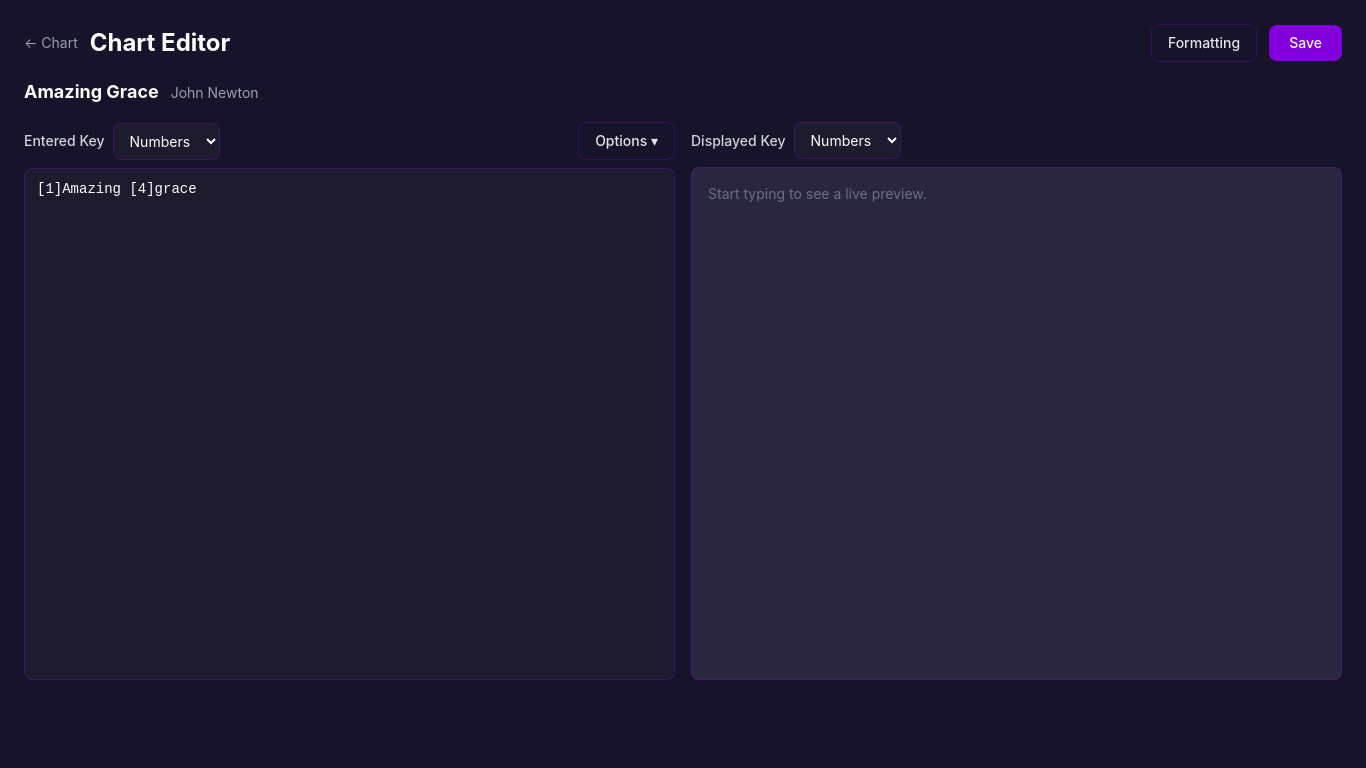
Test: ChartEditorPage (#9.3) › Options menu inserts modify the textarea body (R11.4, R11.5) › a chord symbol button inserts its glyph into the textarea
The image size is (1366, 768).
Expected: the dropdown labelled "Entered Key" is enabled, [113,122,220,160]
Expected: the text box showing "[1]Amazing [4]grace" is shown, [24,168,675,680]
Click the button "Options ▾": coordinates (627, 141) [578,122,675,160]
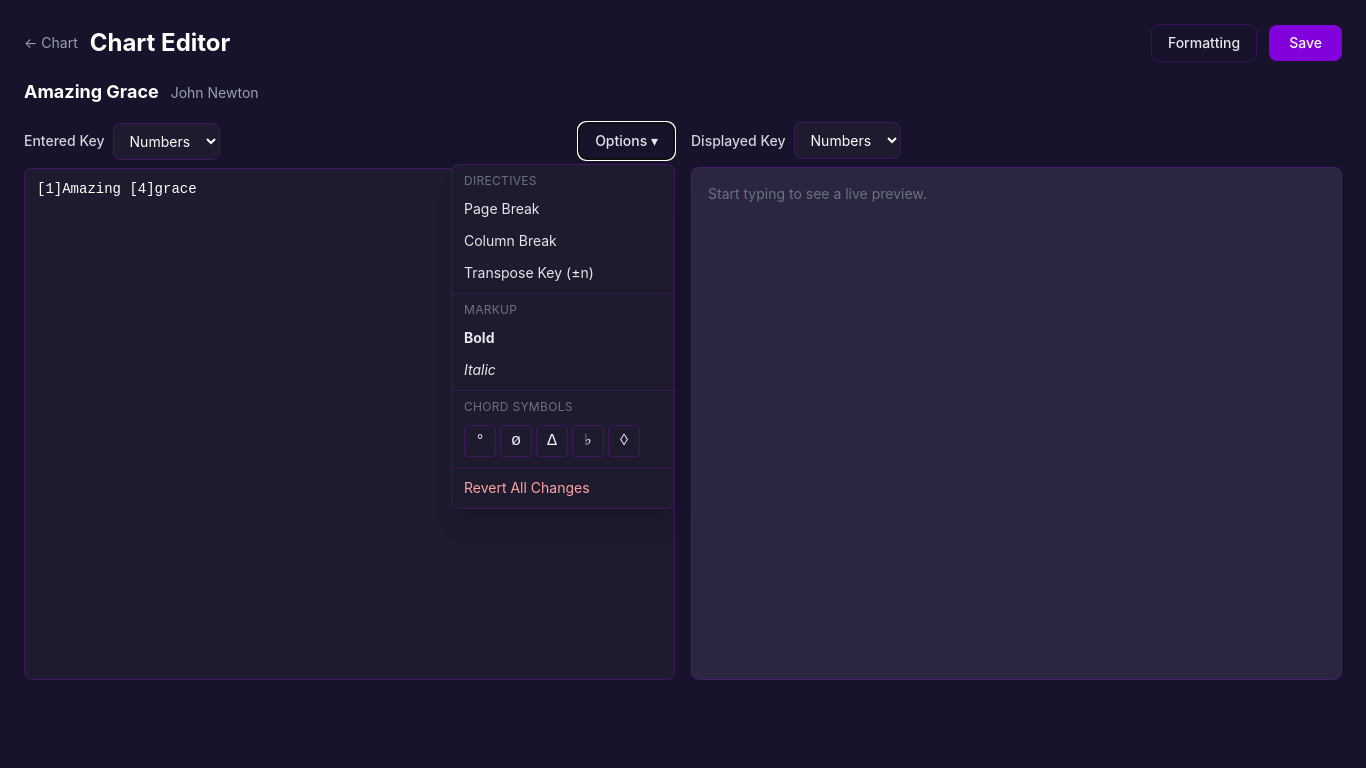
Click the menu item named "Insert °": coordinates (480, 441) [464,425,496,457]
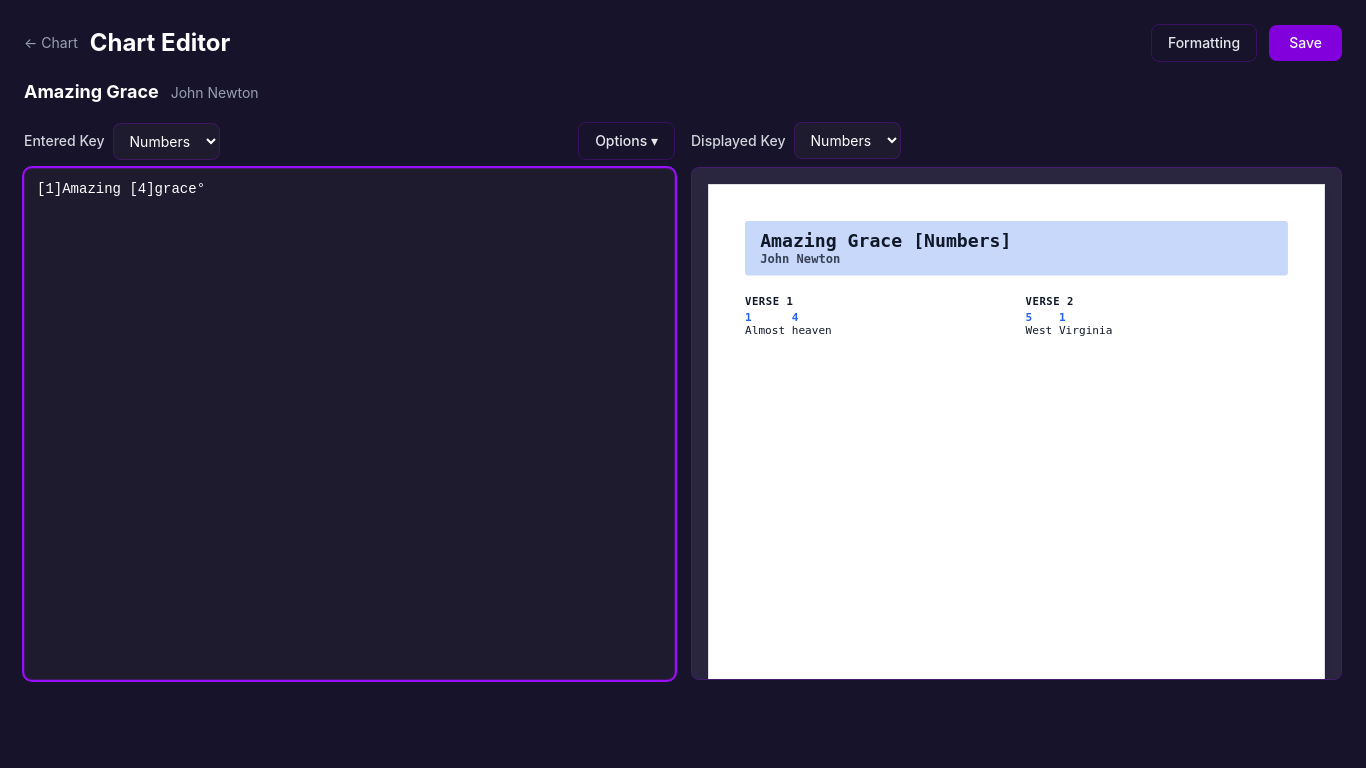
Expected: the text box showing "°" is shown, [24,168,675,680]
